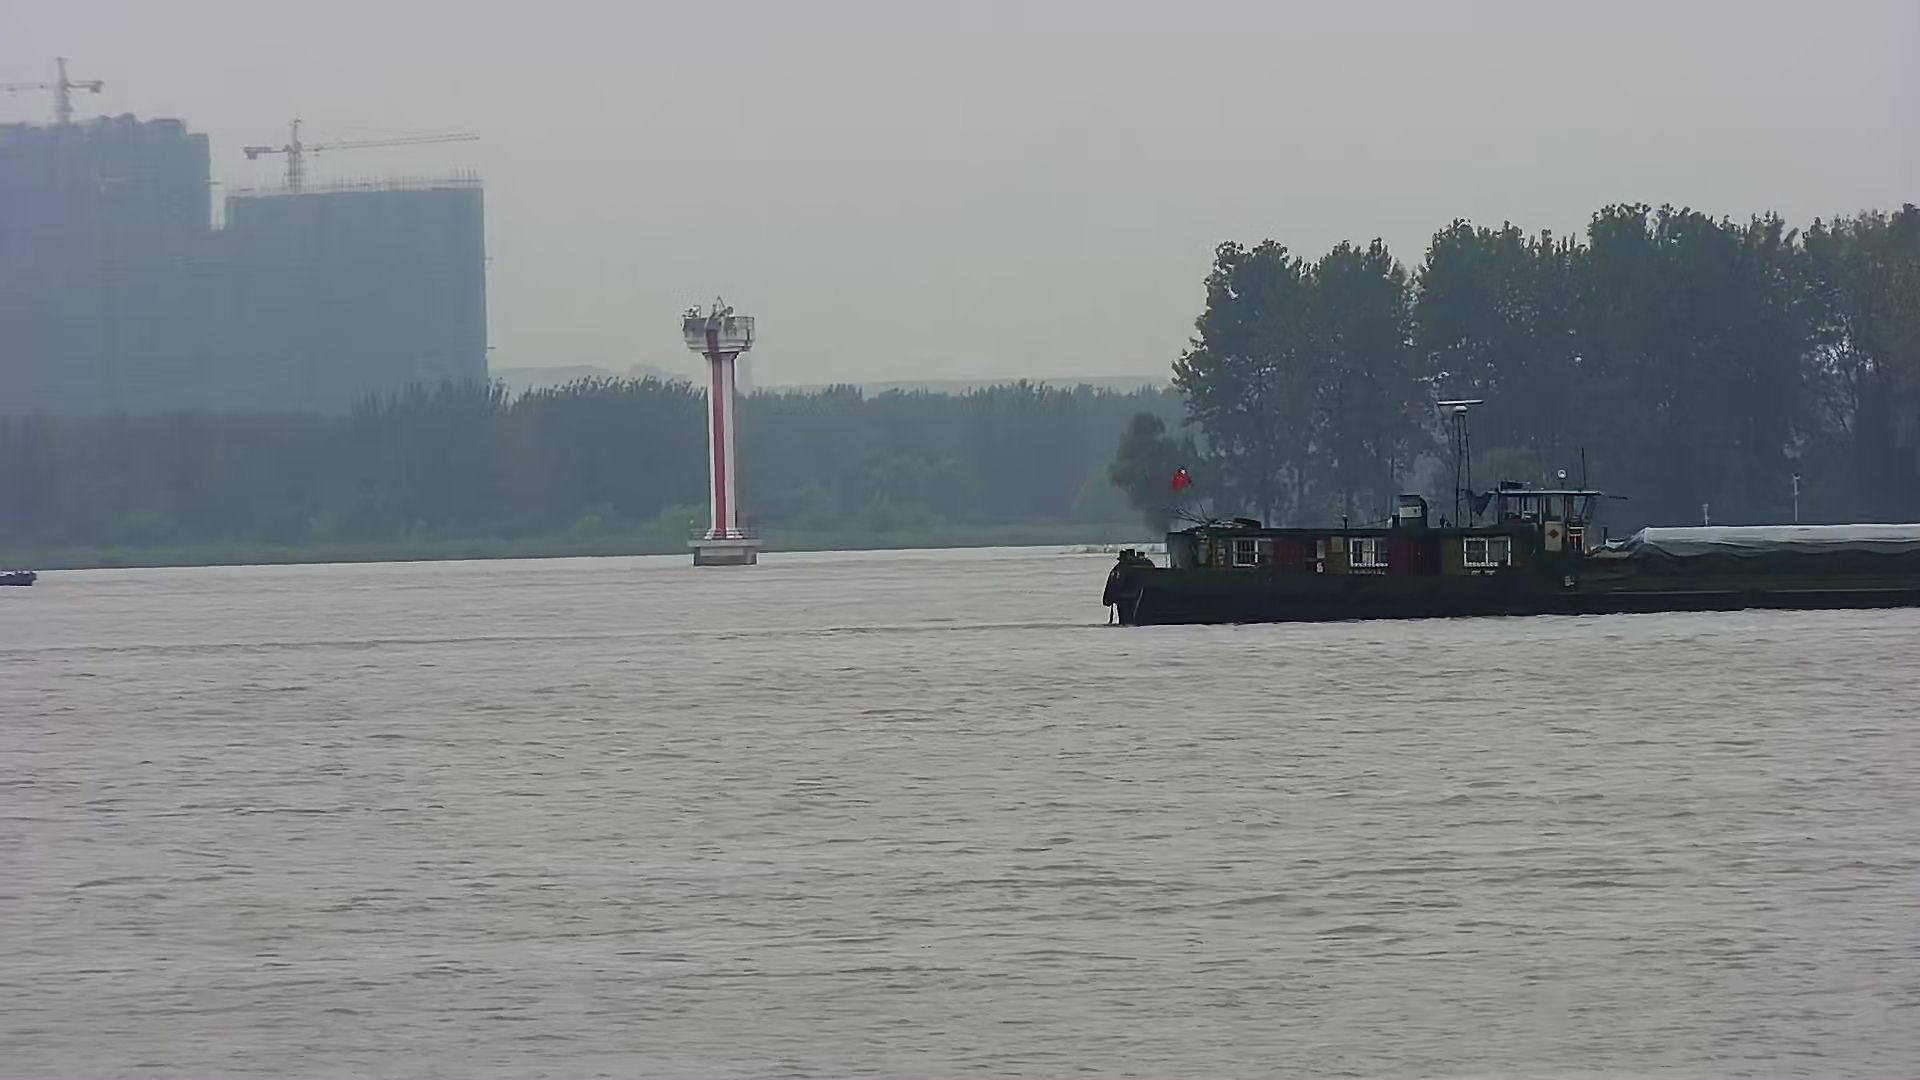boat: (1, 560, 36, 585)
platform: (678, 295, 764, 564)
ship: (1101, 392, 1920, 629)
